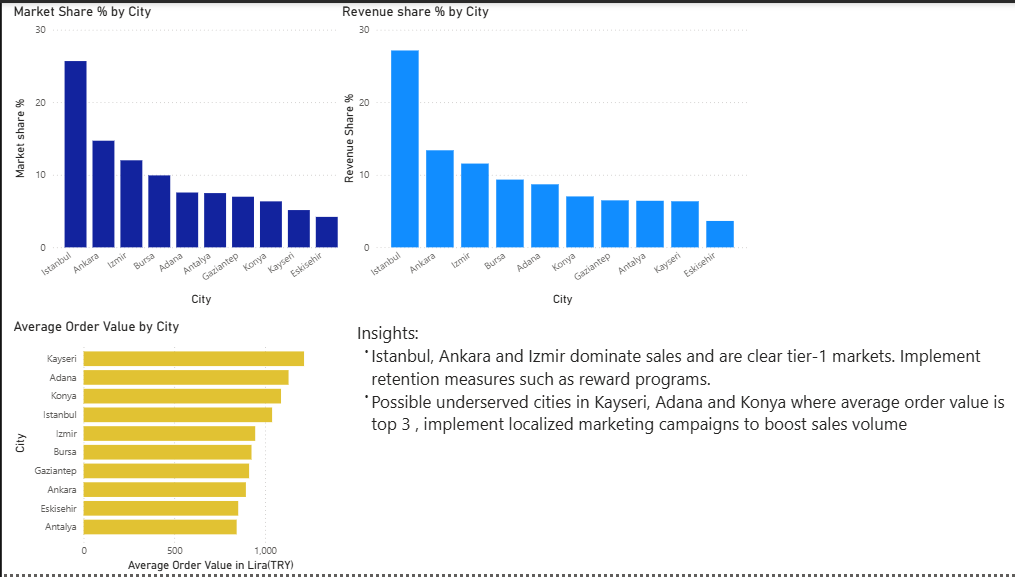

This screenshot's page, from the dashboard's own definition file:
{"tool":"powerbi","page":{"name":"City level ","canvas":[1280,720],"ordinal":1},"visuals":[{"type":"columnChart","title":"Market Share % by City","fields":{"Category":["City level Market Analysis.City"],"Y":["Sum(City level Market Analysis.Market_share)"]},"box":[9.4,0,432.8,385.5],"z":0},{"type":"columnChart","title":"Revenue share % by City","fields":{"Category":["City level Market Analysis.City"],"Y":["Sum(City level Market Analysis.Revenue_share)"]},"box":[423.3,0,521.6,385.5],"z":1000},{"type":"barChart","title":"Average Order Value by City","fields":{"Category":["City level Market Analysis.City"],"Y":["Sum(City level Market Analysis.avg_order_value)"]},"box":[9,396,433,324],"z":2000},{"type":"textbox","box":[442.4,395.3,837.7,323.7],"z":2001}]}

Visuals, with their boxes in screenshot pixels (x1, y1, x2, y2), scaled from the page's 1280x720 canvas onto the 1015x577 screenshot:
"Market Share % by City" columnChart: <region>7, 0, 351, 309</region>
"Revenue share % by City" columnChart: <region>336, 0, 749, 309</region>
"Average Order Value by City" barChart: <region>7, 317, 350, 576</region>
textbox: <region>351, 317, 1014, 576</region>
